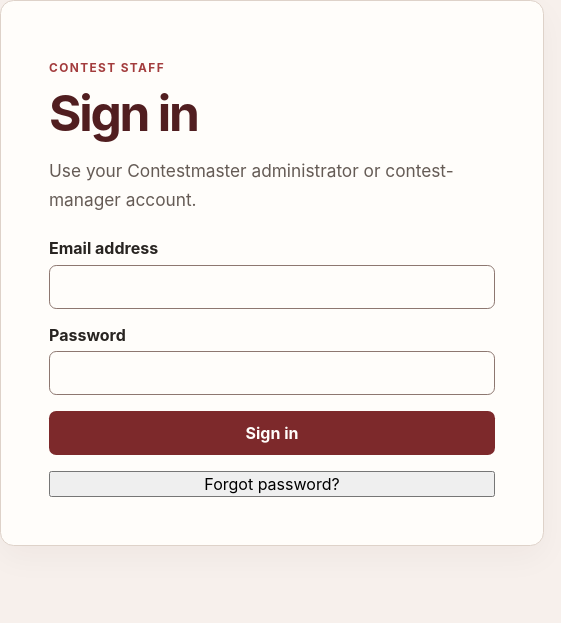
Test: SignInView › shows a server error accessibly without navigating
This screenshot has width=561, height=623.
Type "manager@example.test" into the field named "email" at (272, 287), box [49,265,495,309]
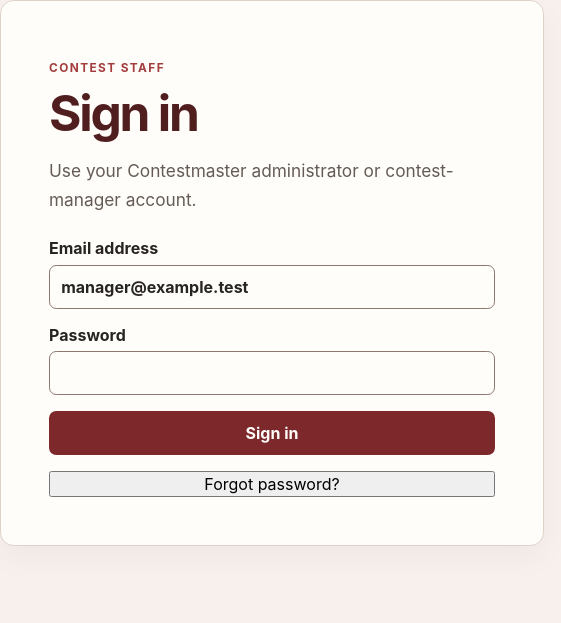
Type "incorrect" into the password field named "password" at (272, 373), box [49,351,495,395]
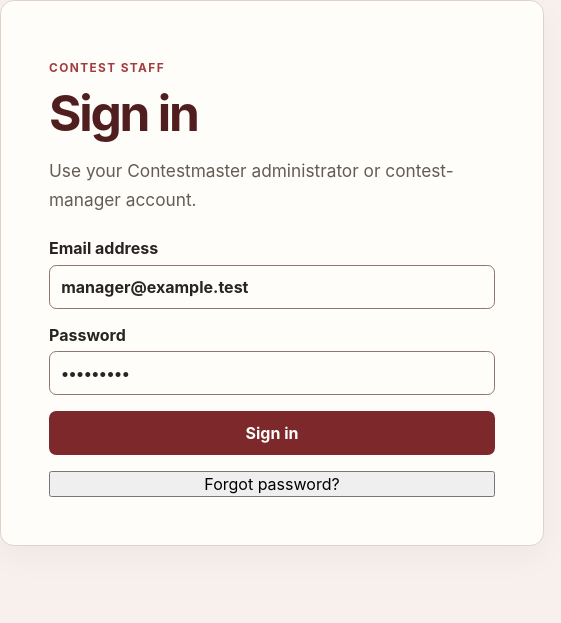
Submit the form, box [49,238,495,497]
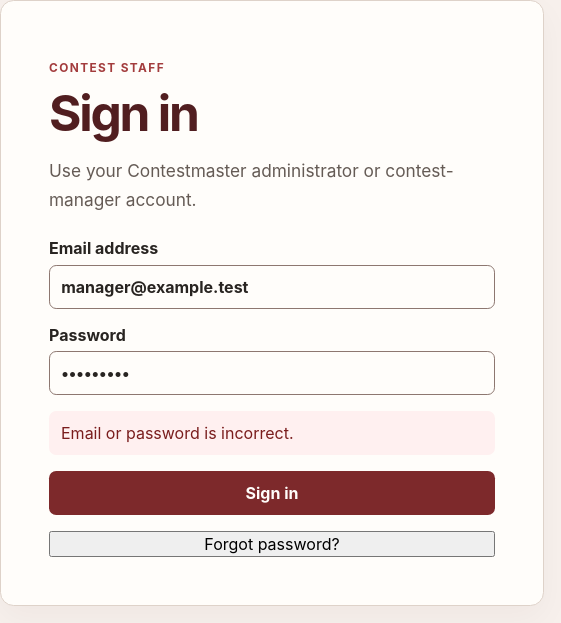
Result: the message "Email or password is incorrect." is shown at [49,411,495,455]
